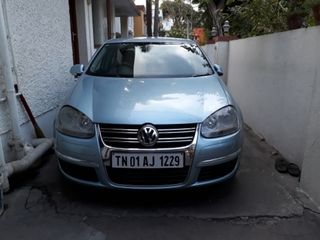T: (114, 154, 122, 167)
